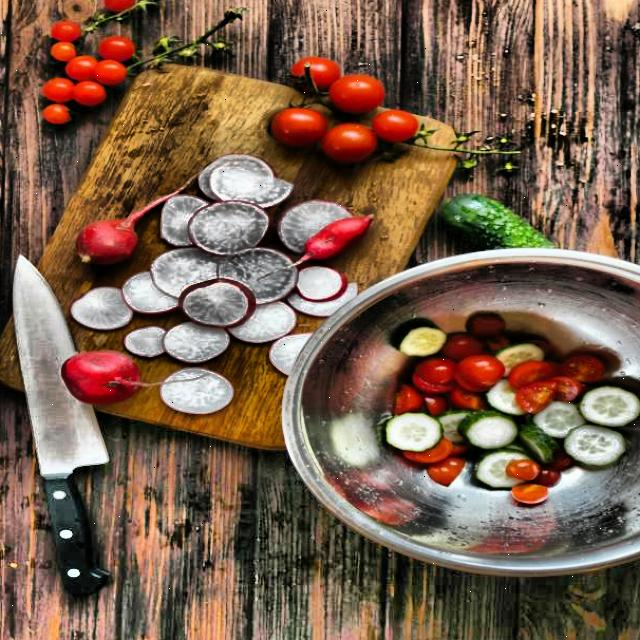knife: (5, 240, 154, 606)
